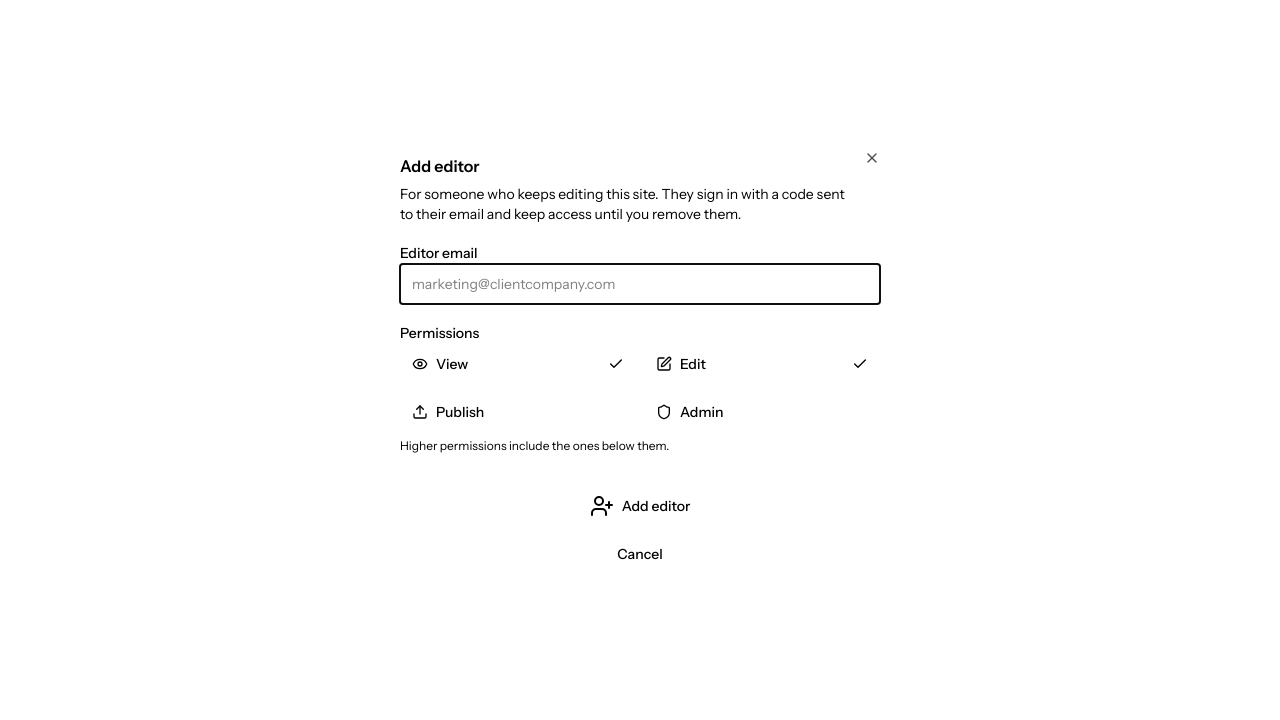
Test: AddEditorDialog › keeps the typed address when the invite is rejected
Type "grace@clientcompany.com" into the field labelled "Editor email". click: (640, 284)
box: [400,264,880,304]
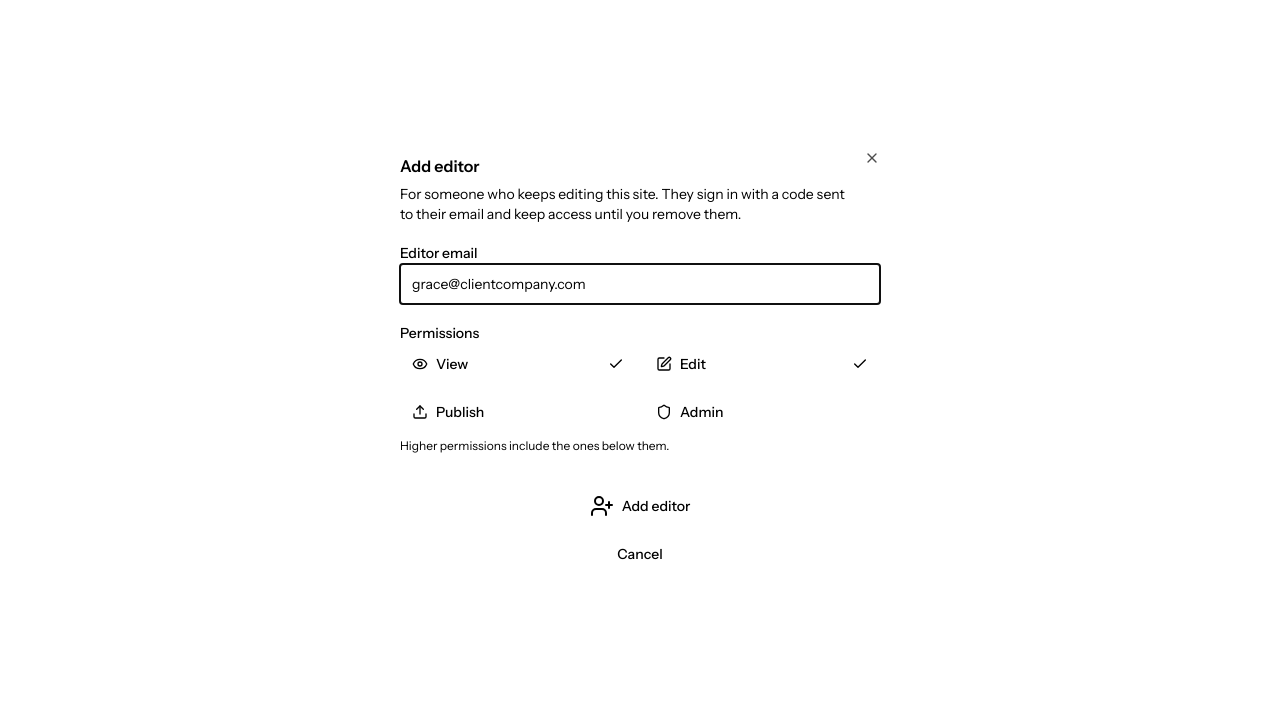
Click the button "Add editor". click: (640, 506)
box: [400,486,880,526]
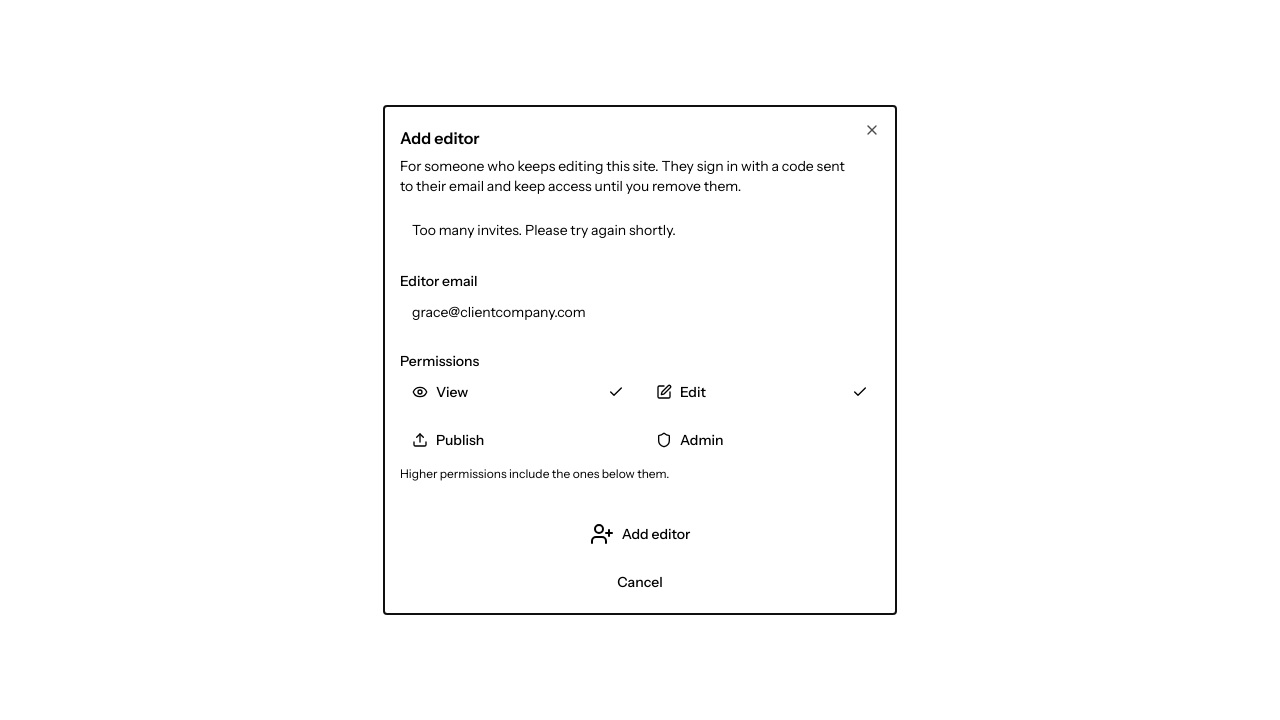
expect the message reads "Too many invites. Please try again shortly.": met, box [412,221,676,239]
